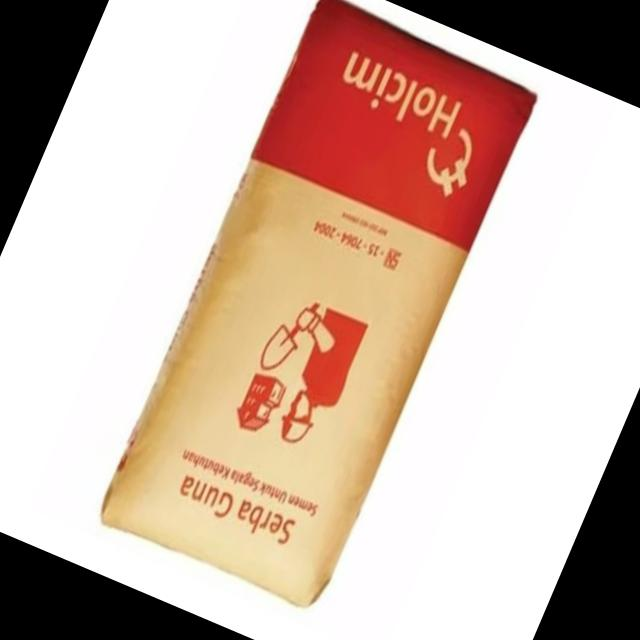KantongSemen: (91, 0, 543, 618)
